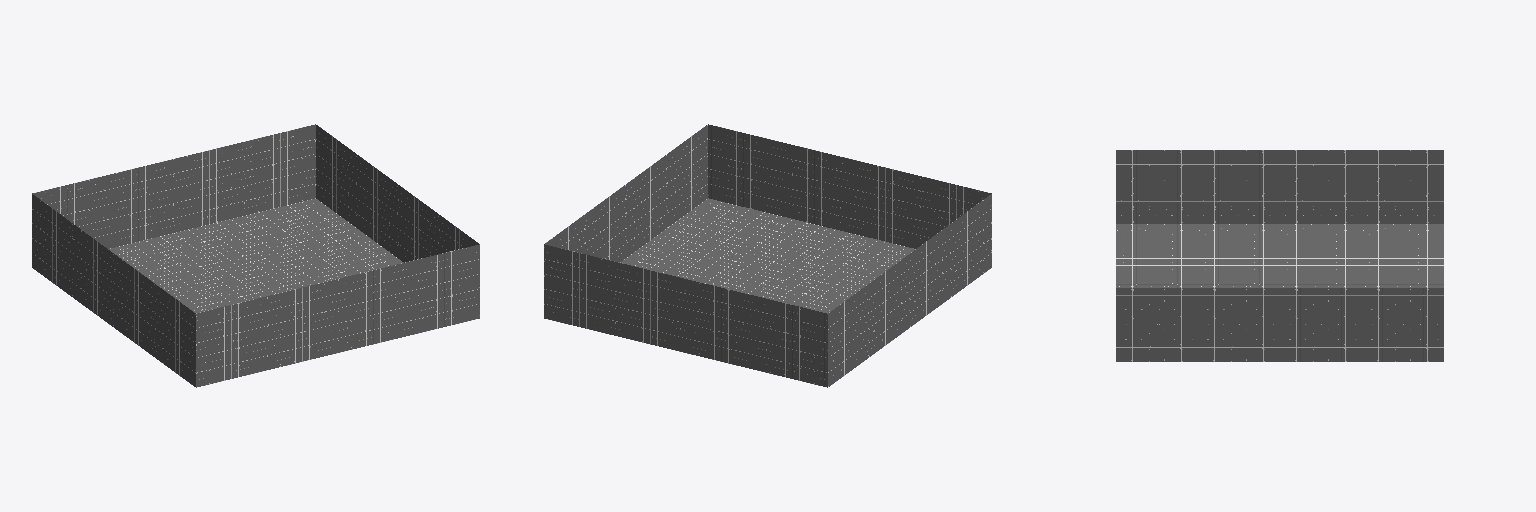
3 views of the same model, side by side, from view 1: azimuth 30°, elevation 25°; view 2: azimuth 150°, elevation 25°; view 3: azimuth 270°, elevation 25° (orthographic).
Parts seen in each view (by area): view 1: floor; view 2: floor; view 3: floor.
Part boxes in pixels (x1,y1,x2,y2): floor: (32,124,479,387); floor: (544,124,991,387); floor: (1116,150,1443,361).
Bounding box in the file's own units: 20 × 5 × 20.
Materials: 1 (1 with a texture image).